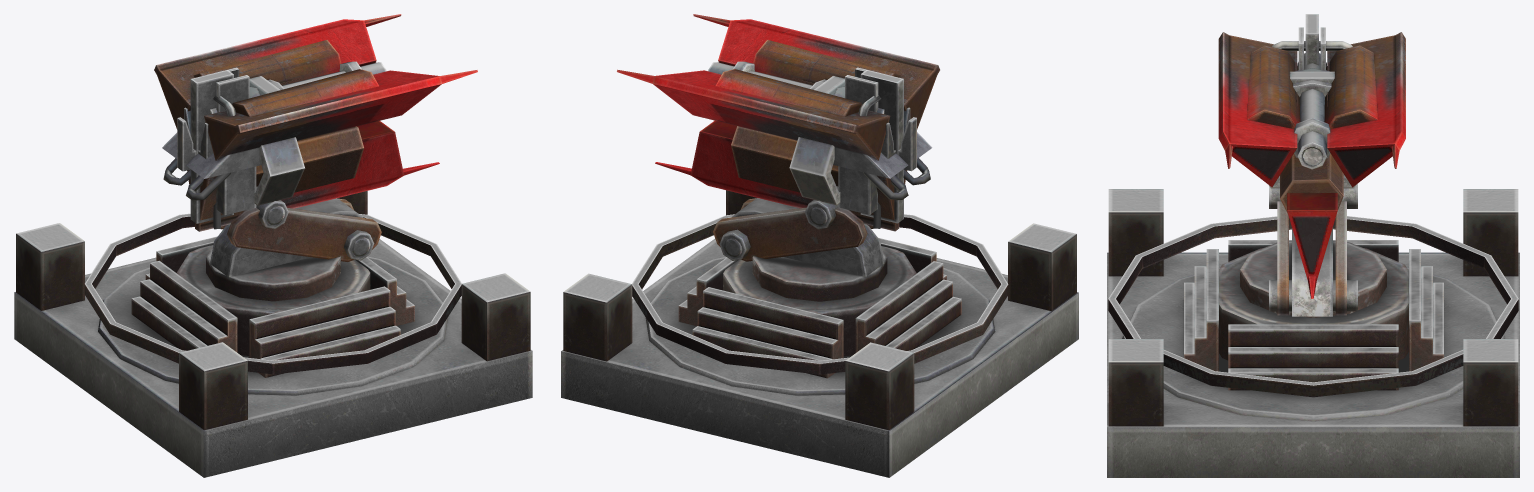
File: trap_316_ubtower.fbx
3 renders of one model, left to right at view 1: azimuth 30°, elevation 25°; view 2: azimuth 150°, elevation 25°; view 3: azimuth 270°, elevation 25°, orthographic. The views are drawn at different scales.
Visible parts, largest first — view 1: polySurface36, polySurface29; view 2: polySurface36, polySurface29; view 3: polySurface36, polySurface29.
Boxes of the visible parts, bbox=[...] form: polySurface36: bbox=[14, 191, 532, 477]; polySurface29: bbox=[154, 14, 477, 301]; polySurface36: bbox=[561, 190, 1078, 477]; polySurface29: bbox=[617, 14, 939, 301]; polySurface36: bbox=[1107, 189, 1519, 477]; polySurface29: bbox=[1218, 14, 1405, 317].
Size of the model in its own units: 1 by 0.8926 by 1.
1 material, 1 textured.
